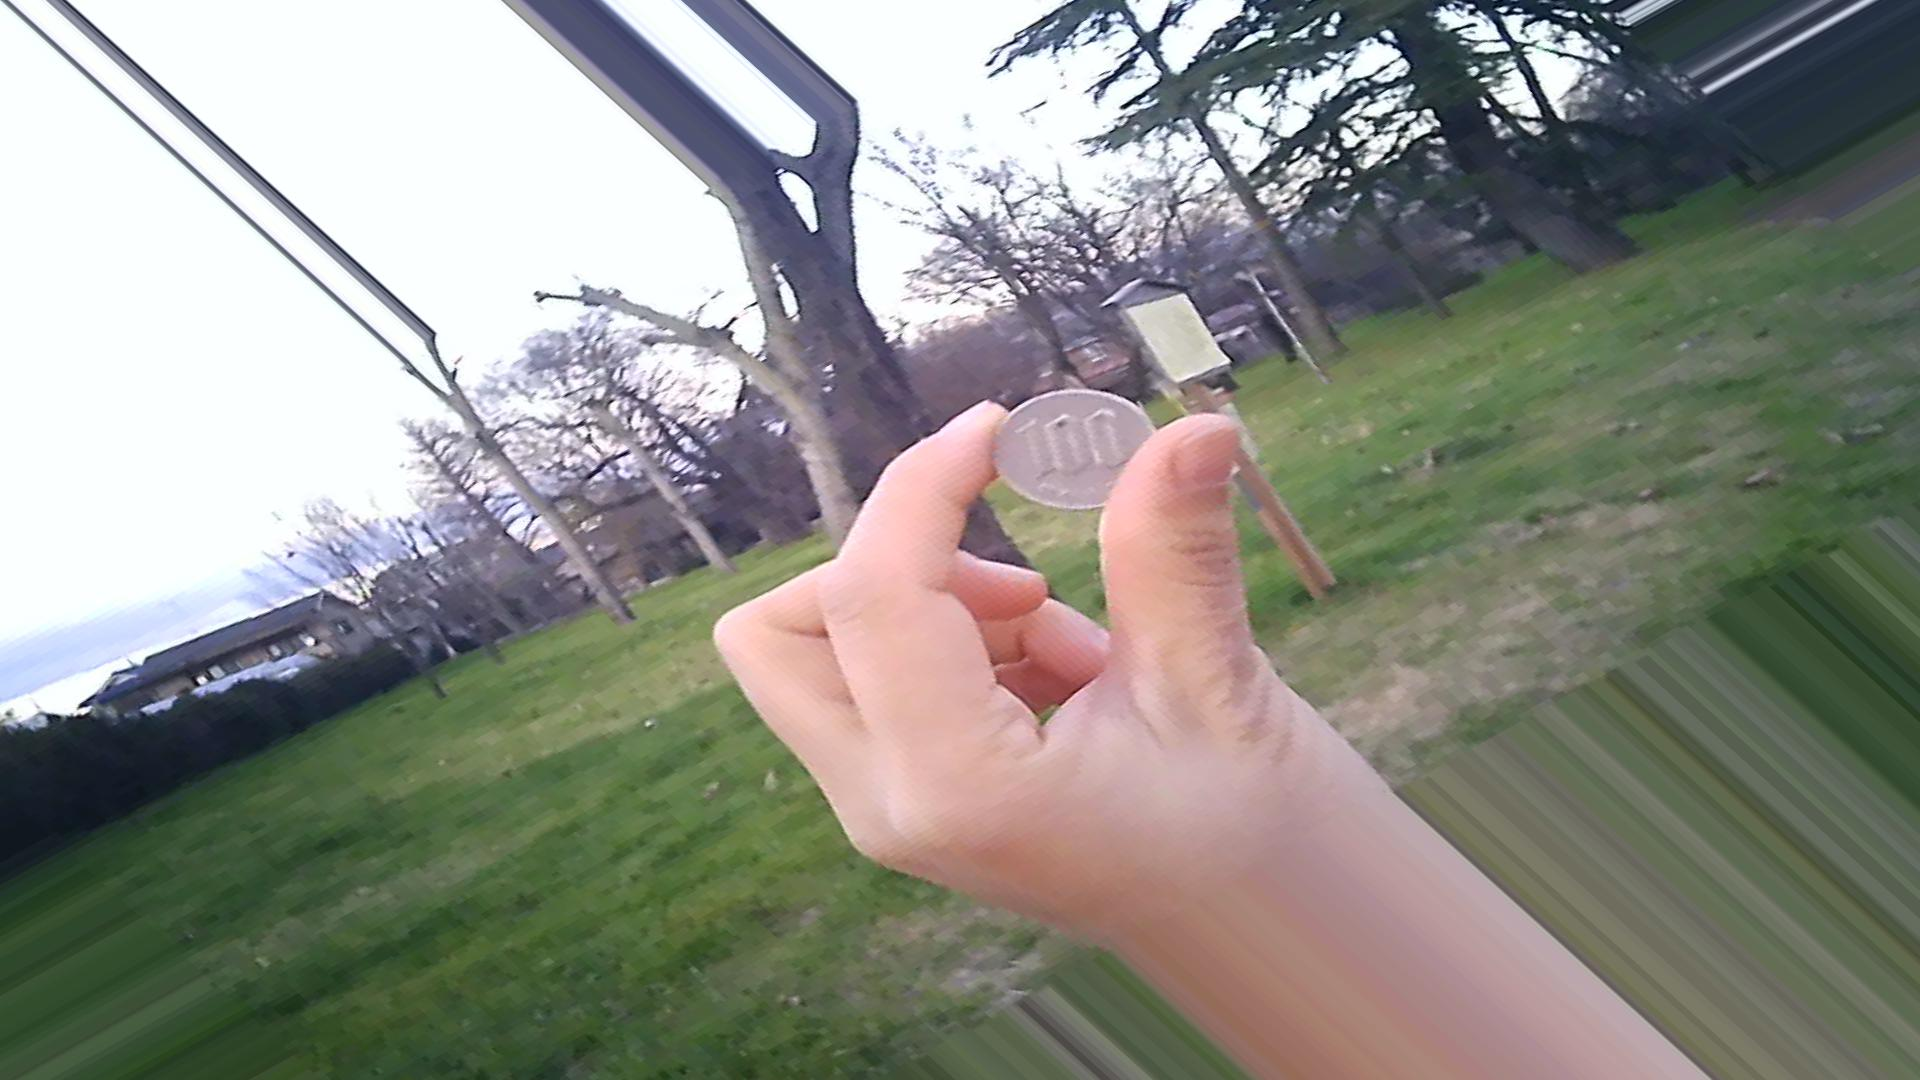100 Yen: (985, 386, 1167, 512)
